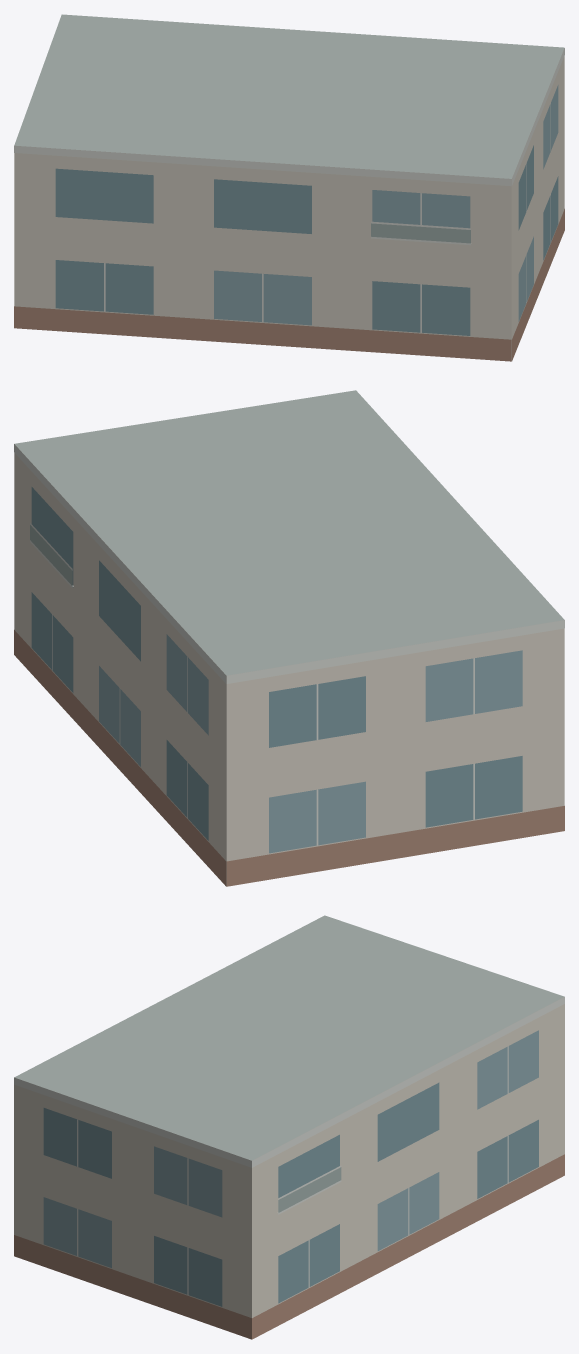
The model's file is survey-upis-32801507.glb.
3 views of the same model, one above another, from view 1: azimuth 30°, elevation 25°; view 2: azimuth 150°, elevation 25°; view 3: azimuth 270°, elevation 25° (orthographic). The views are drawn at different scales.
Visible parts, largest first — view 1: survey-upis-32801507.tmp; view 2: survey-upis-32801507.tmp; view 3: survey-upis-32801507.tmp.
Boxes of the visible parts, x1,y1,x2,y2 form: survey-upis-32801507.tmp: [14, 14, 564, 361]; survey-upis-32801507.tmp: [14, 390, 564, 886]; survey-upis-32801507.tmp: [14, 915, 564, 1339].
Bounding box in the file's own units: 17.97 × 6.1 × 17.04.
